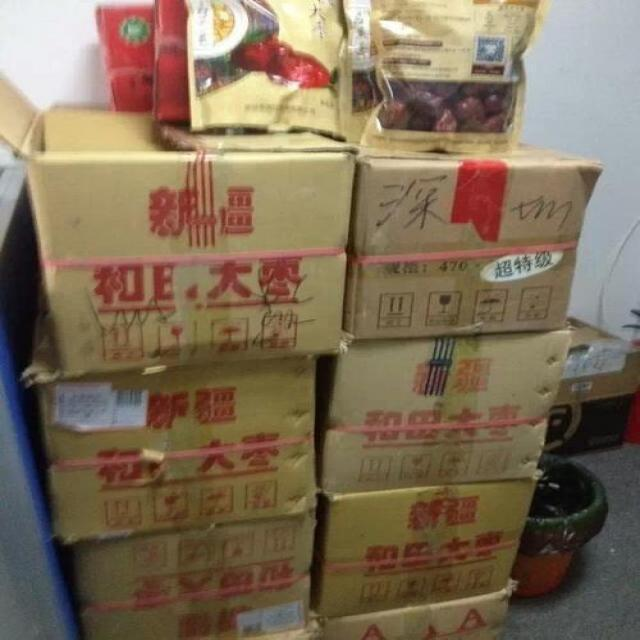box: (0, 88, 355, 377), (20, 350, 319, 538), (320, 320, 580, 499), (346, 144, 584, 336), (65, 507, 316, 640), (298, 473, 514, 622)
